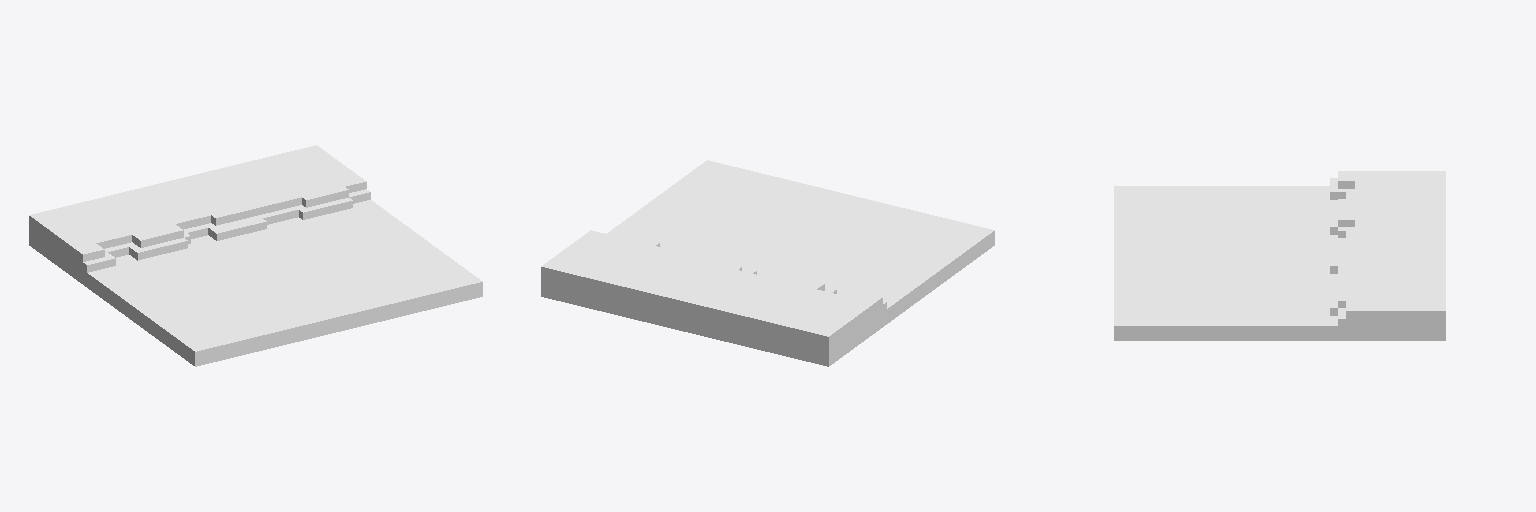
Rendered from river3-1-River.obj.
3 renders of one model, left to right at view 1: azimuth 30°, elevation 25°; view 2: azimuth 150°, elevation 25°; view 3: azimuth 270°, elevation 25°, orthographic.
Parts seen in each view (by area): view 1: River; view 2: River; view 3: River.
Part boxes in pixels (x1,y1,x2,y2): River: (29,145,482,366); River: (541,160,994,366); River: (1114,171,1445,340).
Size of the model in its own units: 4 by 0.4 by 4.